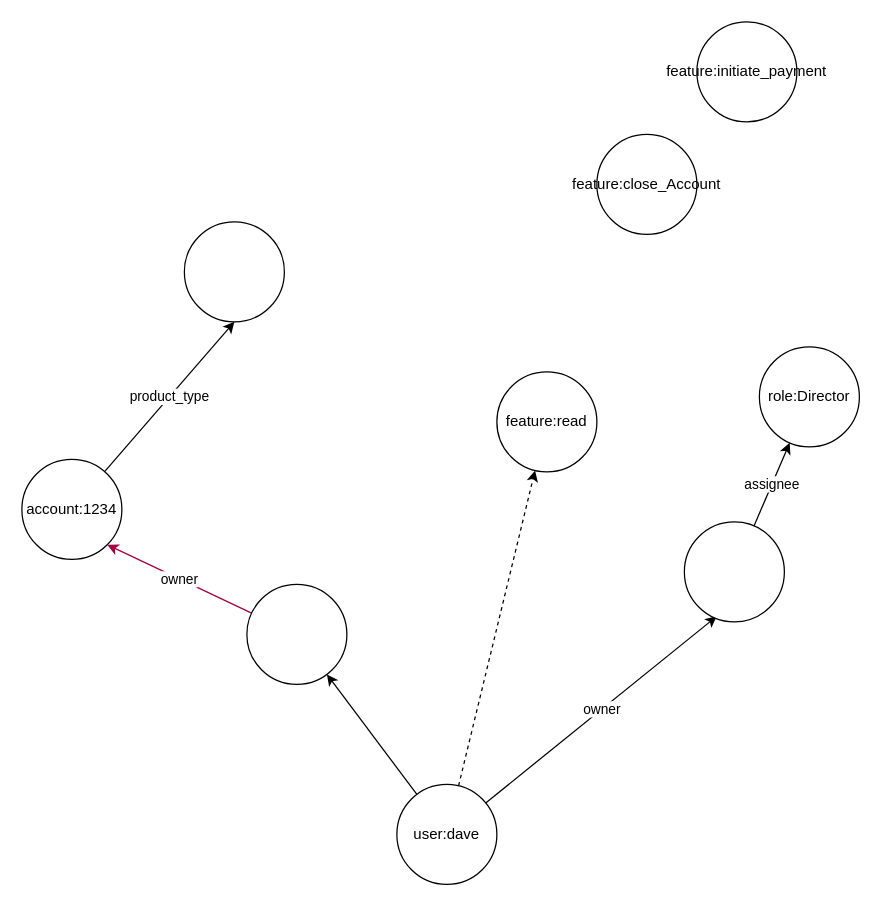
Some shapes in this 881 by 906 pixel diagram are drawn without their labels. Here are the shapes that lost their labels. From the top down, the centre of each, then its label:
the point at 233,271: product:CSC1234
the point at 733,571: user_Role:er3rew..
the point at 296,633: user:le123
